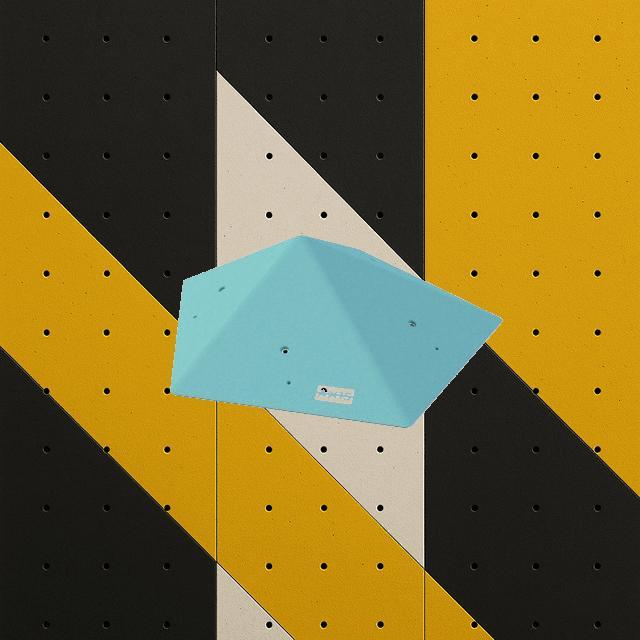Volume: (170, 234, 502, 428)
